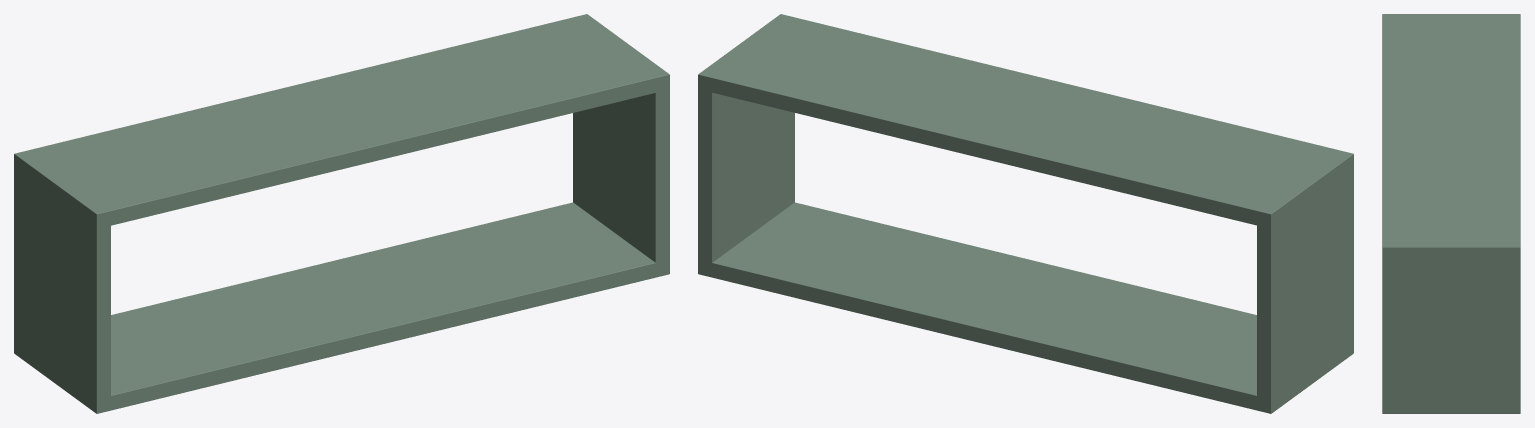
The model's file is MODH_2X07_A_O_VA.glb.
3 views of the same model, side by side, from view 1: azimuth 30°, elevation 25°; view 2: azimuth 150°, elevation 25°; view 3: azimuth 270°, elevation 25° (orthographic). The views are drawn at different scales.
Size of the model in its own units: 720 by 240 by 180.
